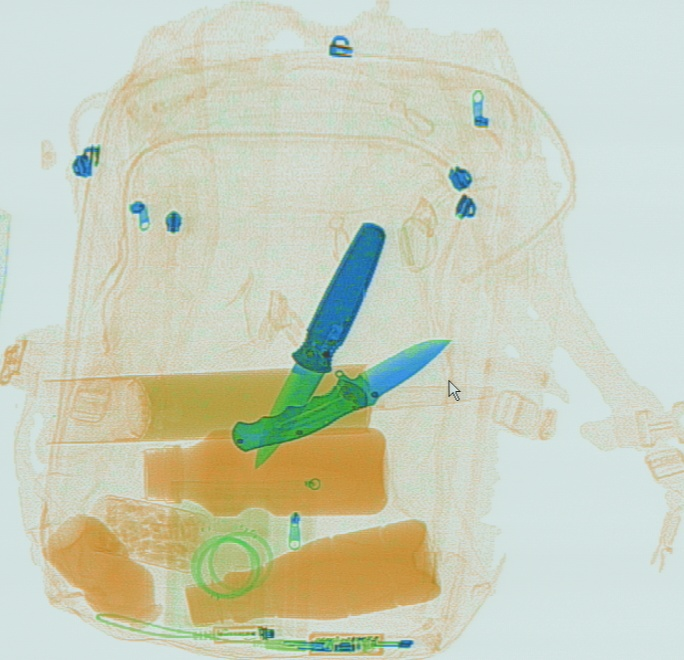knife: (253, 221, 388, 471), (230, 338, 450, 454)
